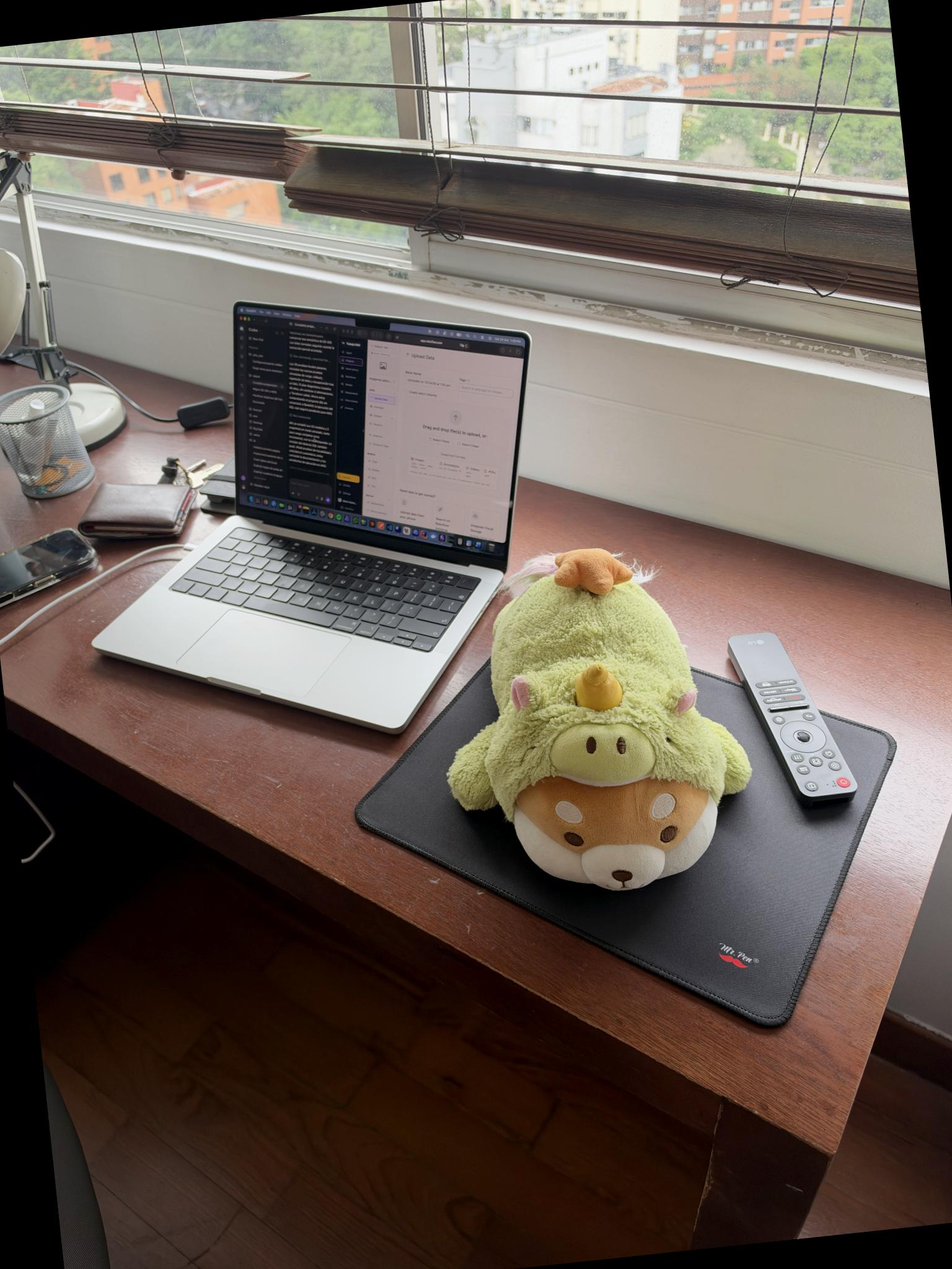peluche_martin: (423, 533, 764, 909)
